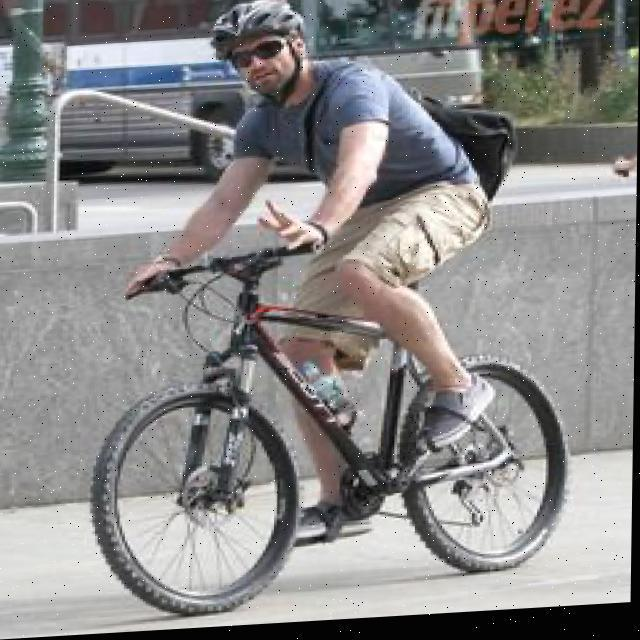Helmet: (191, 0, 322, 114)
